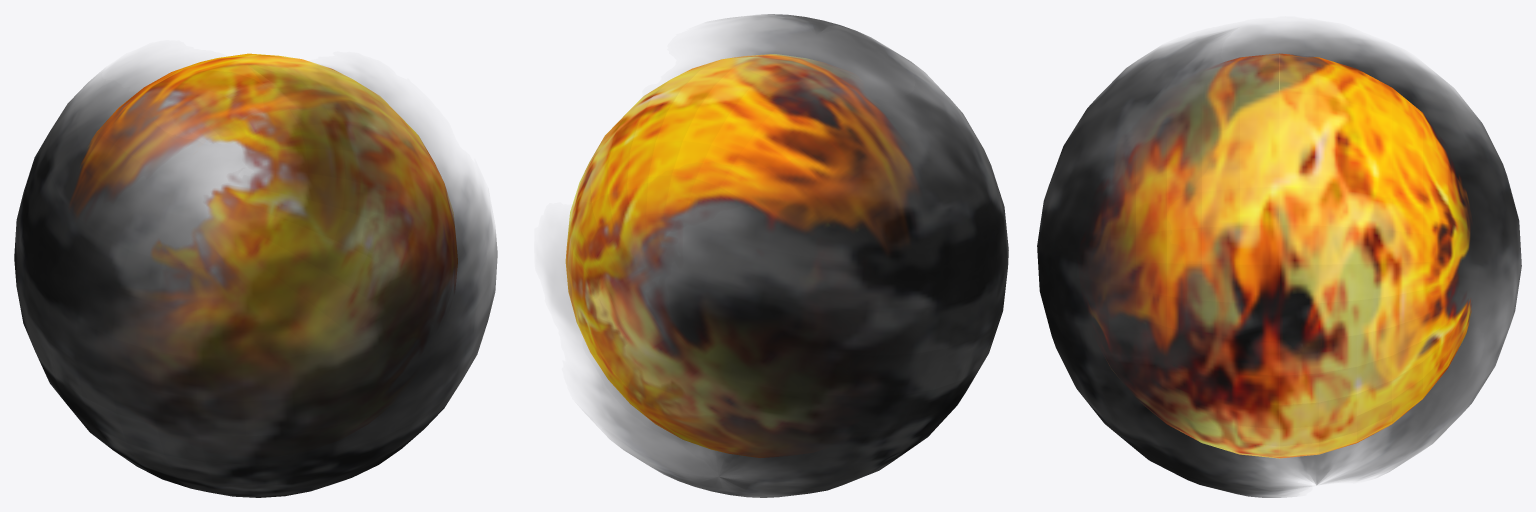
The model's file is sphere_explosion.glb.
3 views of the same model, side by side, from view 1: azimuth 30°, elevation 25°; view 2: azimuth 150°, elevation 25°; view 3: azimuth 270°, elevation 25° (orthographic).
Visible parts, largest first — view 1: Sphere; view 2: Sphere; view 3: Sphere.
Boxes of the visible parts, x1=… form: Sphere: x1=14, y1=53, x2=497, y2=497; Sphere: x1=547, y1=14, x2=1008, y2=497; Sphere: x1=1037, y1=26, x2=1521, y2=497.
Size of the model in its own units: 1.35 by 1.35 by 1.35.
Materials: 1 (1 with a texture image).
